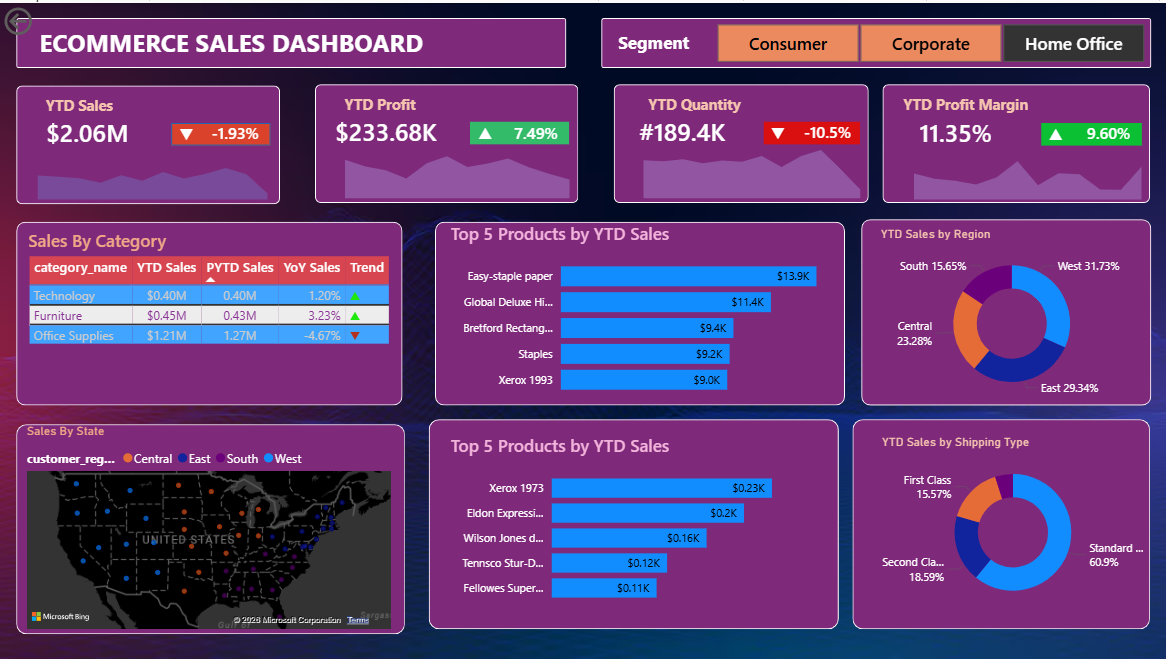

This screenshot's page, from the dashboard's own definition file:
{"tool":"powerbi","page":{"name":"Page 1","canvas":[1280,720],"ordinal":0},"visuals":[{"type":"shape","box":[17.8,16.5,603.8,54.9],"z":0},{"type":"shape","box":[345.8,89.2,289.2,130.4],"z":0,"group":"g1"},{"type":"shape","box":[673.8,89.2,279.7,130.4],"z":0,"group":"g3"},{"type":"shape","box":[968.6,89.8,293.7,130.4],"z":0,"group":"g4"},{"type":"shape","box":[17.8,90.6,289.5,130.4],"z":0,"group":"g2"},{"type":"shape","box":[17.8,240.1,424,201.7],"z":0,"group":"g5"},{"type":"shape","box":[477.5,240.1,450.1,201.7],"z":0,"group":"g7"},{"type":"shape","box":[470.7,456.9,450.1,230.5],"z":0,"group":"g8"},{"type":"shape","box":[17.8,462.4,426.8,230.5],"z":0,"group":"g6"},{"type":"shape","box":[515.7,130.4,108.8,24.7],"z":1000,"group":"g1"},{"type":"shape","box":[838.2,130.4,105.3,24.7],"z":1000,"group":"g3"},{"type":"shape","box":[1142.5,131.7,110.3,24.7],"z":1000,"group":"g4"},{"type":"shape","box":[187.9,131.8,108.9,24.7],"z":1000,"group":"g2"},{"type":"shape","box":[945.5,237.4,318.4,204.5],"z":1000},{"type":"group","id":"g1","title":"Group 1","box":[345.8,89.2,293.7,130.4],"z":2000},{"type":"card","fields":{"Values":["ecommerce_data.YoY Sales"]},"box":[219.3,130.4,77.6,26.1],"z":2000,"group":"g2"},{"type":"textbox","box":[38.4,20.6,443.2,56.3],"z":3000},{"type":"card","fields":{"Values":["ecommerce_data.YTD Profit"]},"box":[345.8,111.2,156.5,61.7],"z":3000,"group":"g1"},{"type":"card","fields":{"Values":["ecommerce_data.YTD Conacatenated"]},"box":[673.8,111.2,151.4,61.7],"z":3000,"group":"g3"},{"type":"card","fields":{"Values":["ecommerce_data.YTD Profit Margin"]},"box":[970.2,112.5,158.7,61.7],"z":3000,"group":"g4"},{"type":"card","fields":{"Values":["ecommerce_data.YTD Sales"]},"box":[17.8,112.6,156.7,61.7],"z":3000,"group":"g2"},{"type":"group","id":"g2","title":"Group 1","box":[17.8,90.6,289.5,130.4],"z":4000},{"type":"areaChart","fields":{"Category":["Calender.Month"],"Y":["Sum(ecommerce_data.profit_per_order)"]},"box":[365,147.1,274.3,72.7],"z":4000,"group":"g1"},{"type":"areaChart","fields":{"Category":["Calender.Month"],"Y":["Sum(ecommerce_data.order_quantity)"]},"box":[692.4,147.1,265.3,72.7],"z":4000,"group":"g3"},{"type":"areaChart","fields":{"Category":["Calender.Month"],"Y":["ecommerce_data.Profit Margin"]},"box":[989.7,148.5,278.1,72.7],"z":4000,"group":"g4"},{"type":"areaChart","fields":{"Category":["Calender.Month"],"Y":["Sum(ecommerce_data.sales_per_order)"]},"box":[27,152.6,280.6,68.6],"z":4000,"group":"g2"},{"type":"card","fields":{"Values":["ecommerce_data.Profit Trend"]},"box":[493.4,130.4,77.5,26.1],"z":5000,"group":"g1"},{"type":"card","fields":{"Values":["ecommerce_data.YoY Profit"]},"box":[553,130.4,71.4,26.1],"z":5000},{"type":"card","fields":{"Values":["ecommerce_data.Qty Icon"]},"box":[816.5,130.4,75,26.1],"z":5000,"group":"g3"},{"type":"card","fields":{"Values":["ecommerce_data.Profit Margin Trend"]},"box":[1119.8,131.7,78.6,26.1],"z":5000,"group":"g4"},{"type":"card","fields":{"Values":["ecommerce_data.Sales Trend"]},"box":[165.6,131.8,77.6,26.1],"z":5000,"group":"g2"},{"type":"group","id":"g3","title":"Group 1","box":[673.8,89.2,284,130.4],"z":6000},{"type":"textbox","box":[706.2,94.4,118.2,34.3],"z":6000,"group":"g3"},{"type":"textbox","box":[372.6,94.7,90.9,34.3],"z":6000,"group":"g1"},{"type":"textbox","box":[986.4,95.6,170.8,32.9],"z":6000,"group":"g4"},{"type":"textbox","box":[44.7,96.1,91,34.3],"z":6000,"group":"g2"},{"type":"card","fields":{"Values":["ecommerce_data.YoY Quantity"]},"box":[872.7,129,71.4,26.1],"z":7000},{"type":"group","id":"g4","title":"Group 1","box":[968.6,89.8,299.2,131.4],"z":8000},{"type":"card","fields":{"Values":["ecommerce_data.YoY Profit Margin"]},"box":[1181.5,130.4,71.4,26.1],"z":9000},{"type":"group","id":"g5","title":"Group 1","box":[17.8,240.1,424,201.7],"z":10000},{"type":"tableEx","title":"Sales By Category","fields":{"Values":["ecommerce_data.category_name","ecommerce_data.YTD Sales","ecommerce_data.PYTD Sales","ecommerce_data.YoY Sales","ecommerce_data.Sales Trend"]},"box":[26.1,248.4,408.9,193.5],"z":11000},{"type":"group","id":"g6","title":"Group 1","box":[17.8,462.4,426.8,230.5],"z":12000},{"type":"actionButton","box":[0,0,100,40],"z":13000},{"type":"map","title":"Sales By State","fields":{"X":["us_state_long_lat_codes.longitude"],"Y":["us_state_long_lat_codes.latitude"],"Series":["ecommerce_data.customer_region"]},"box":[24.7,462.4,410.3,230.5],"z":14000},{"type":"group","id":"g7","title":"Group 1","box":[477.5,240.1,450.1,201.7],"z":15000},{"type":"group","id":"g8","title":"Group 1","box":[470.7,456.9,450.1,230.5],"z":16000},{"type":"barChart","title":"Top 5 Products by YTD Sales","fields":{"Category":["ecommerce_data.product_name"],"Y":["ecommerce_data.YTD Sales"]},"box":[489.9,240.1,450.1,201.7],"z":17000},{"type":"barChart","title":"Top 5 Products by YTD Sales","fields":{"Category":["ecommerce_data.product_name"],"Y":["ecommerce_data.YTD Sales"]},"box":[489.9,473.4,410.3,196.2],"z":18000},{"type":"donutChart","title":"YTD Sales by Region","fields":{"Category":["ecommerce_data.customer_region"],"Y":["ecommerce_data.YTD Sales"]},"box":[961.9,245.6,297.8,196.2],"z":19000},{"type":"shape","box":[935.9,456.9,326.6,230.5],"z":20000},{"type":"donutChart","title":"YTD Sales by Shipping Type","fields":{"Category":["ecommerce_data.shipping_type"],"Y":["ecommerce_data.YTD Sales"]},"box":[963.3,474.8,297.8,196.2],"z":21000},{"type":"shape","box":[660,16.5,603.8,54.9],"z":22000},{"type":"slicer","fields":{"Values":["ecommerce_data.customer_segment"]},"box":[761.6,16.5,518.7,54.9],"z":23000},{"type":"textbox","box":[673.8,26.1,118,48],"z":24000}]}

Visuals, with their boxes in screenshot pixels (x1, y1, x2, y2), scaled from the page's 1280x720 canvas onto the 1166x659 screenshot:
shape: (16, 15, 566, 65)
shape: (315, 82, 578, 201)
shape: (614, 82, 869, 201)
shape: (882, 82, 1150, 202)
shape: (16, 83, 280, 202)
shape: (16, 220, 402, 404)
shape: (435, 220, 845, 404)
shape: (429, 418, 839, 629)
shape: (16, 423, 405, 634)
shape: (470, 119, 569, 142)
shape: (764, 119, 859, 142)
shape: (1041, 121, 1141, 143)
shape: (171, 121, 270, 143)
shape: (861, 217, 1151, 404)
"Group 1" group: (315, 82, 583, 201)
card - ecommerce_data.YoY Sales: (200, 119, 270, 143)
textbox: (35, 19, 439, 70)
card - ecommerce_data.YTD Profit: (315, 102, 458, 158)
card - ecommerce_data.YTD Conacatenated: (614, 102, 752, 158)
card - ecommerce_data.YTD Profit Margin: (884, 103, 1028, 159)
card - ecommerce_data.YTD Sales: (16, 103, 159, 160)
"Group 1" group: (16, 83, 280, 202)
areaChart - Calender.Month x Sum(ecommerce_data.profit_per_order): (332, 135, 582, 201)
areaChart - Calender.Month x Sum(ecommerce_data.order_quantity): (631, 135, 872, 201)
areaChart - Calender.Month x ecommerce_data.Profit Margin: (902, 136, 1155, 202)
areaChart - Calender.Month x Sum(ecommerce_data.sales_per_order): (25, 140, 280, 202)
card - ecommerce_data.Profit Trend: (449, 119, 520, 143)
card - ecommerce_data.YoY Profit: (504, 119, 569, 143)
card - ecommerce_data.Qty Icon: (744, 119, 812, 143)
card - ecommerce_data.Profit Margin Trend: (1020, 121, 1092, 144)
card - ecommerce_data.Sales Trend: (151, 121, 222, 145)
"Group 1" group: (614, 82, 872, 201)
textbox: (643, 86, 751, 118)
textbox: (339, 87, 422, 118)
textbox: (899, 88, 1054, 118)
textbox: (41, 88, 124, 119)
card - ecommerce_data.YoY Quantity: (795, 118, 860, 142)
"Group 1" group: (882, 82, 1155, 202)
card - ecommerce_data.YoY Profit Margin: (1076, 119, 1141, 143)
"Group 1" group: (16, 220, 402, 404)
"Sales By Category" tableEx: (24, 227, 396, 404)
"Group 1" group: (16, 423, 405, 634)
actionButton: (0, 0, 91, 37)
"Sales By State" map: (23, 423, 396, 634)
"Group 1" group: (435, 220, 845, 404)
"Group 1" group: (429, 418, 839, 629)
"Top 5 Products by YTD Sales" barChart: (446, 220, 856, 404)
"Top 5 Products by YTD Sales" barChart: (446, 433, 820, 613)
"YTD Sales by Region" donutChart: (876, 225, 1148, 404)
shape: (853, 418, 1150, 629)
"YTD Sales by Shipping Type" donutChart: (878, 435, 1149, 614)
shape: (601, 15, 1151, 65)
slicer - ecommerce_data.customer_segment: (694, 15, 1165, 65)
textbox: (614, 24, 721, 68)
